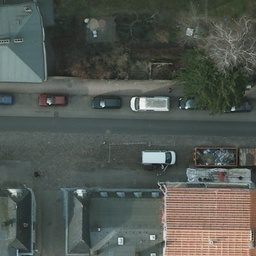car: (179, 95, 212, 112), (91, 95, 123, 110), (220, 99, 253, 113), (38, 93, 67, 107), (0, 92, 14, 105)
van: (130, 95, 171, 112), (142, 152, 175, 166)
